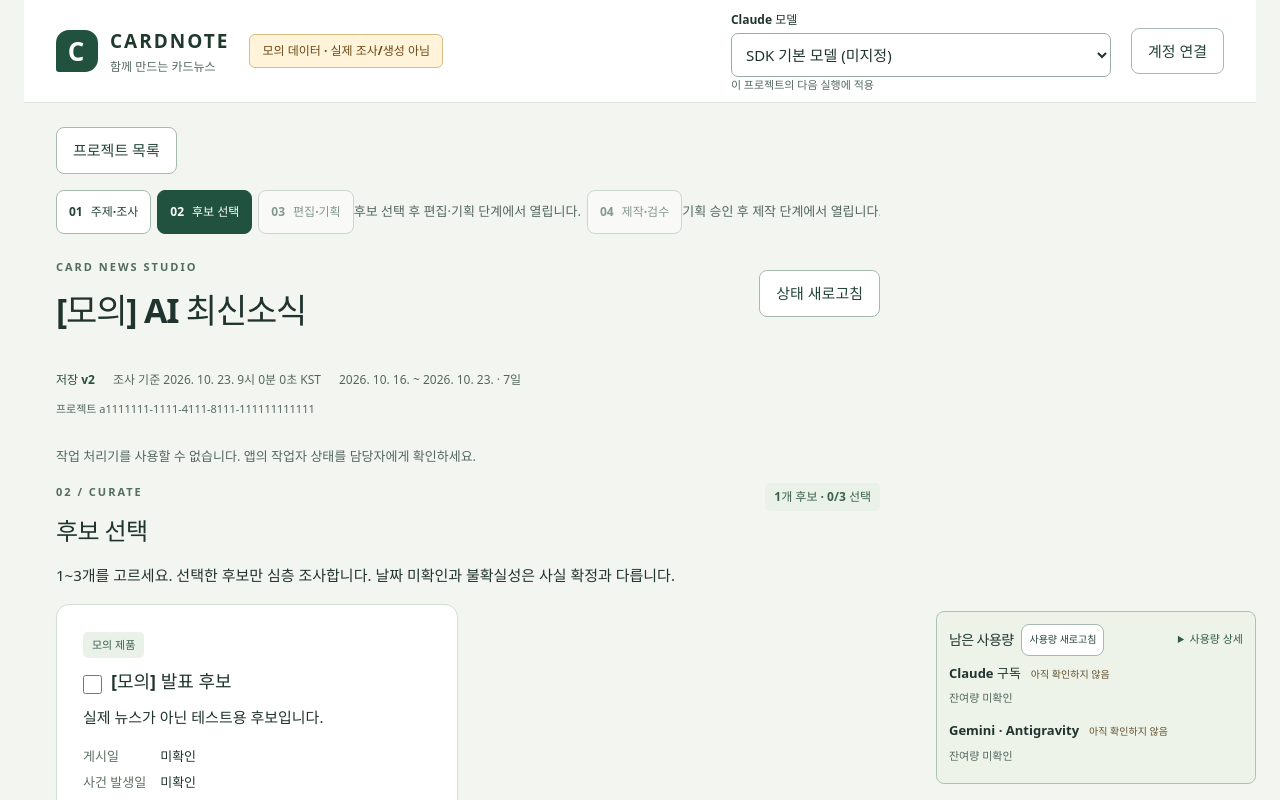
worker 불가는 원시 reason을 숨기고 조사 버튼 옆에 명시한다
Expected: the heading "[모의] AI 최신소식" is shown, [56, 288, 306, 334]
Click the button "01 주제·조사" at [104, 212], box [56, 190, 151, 234]
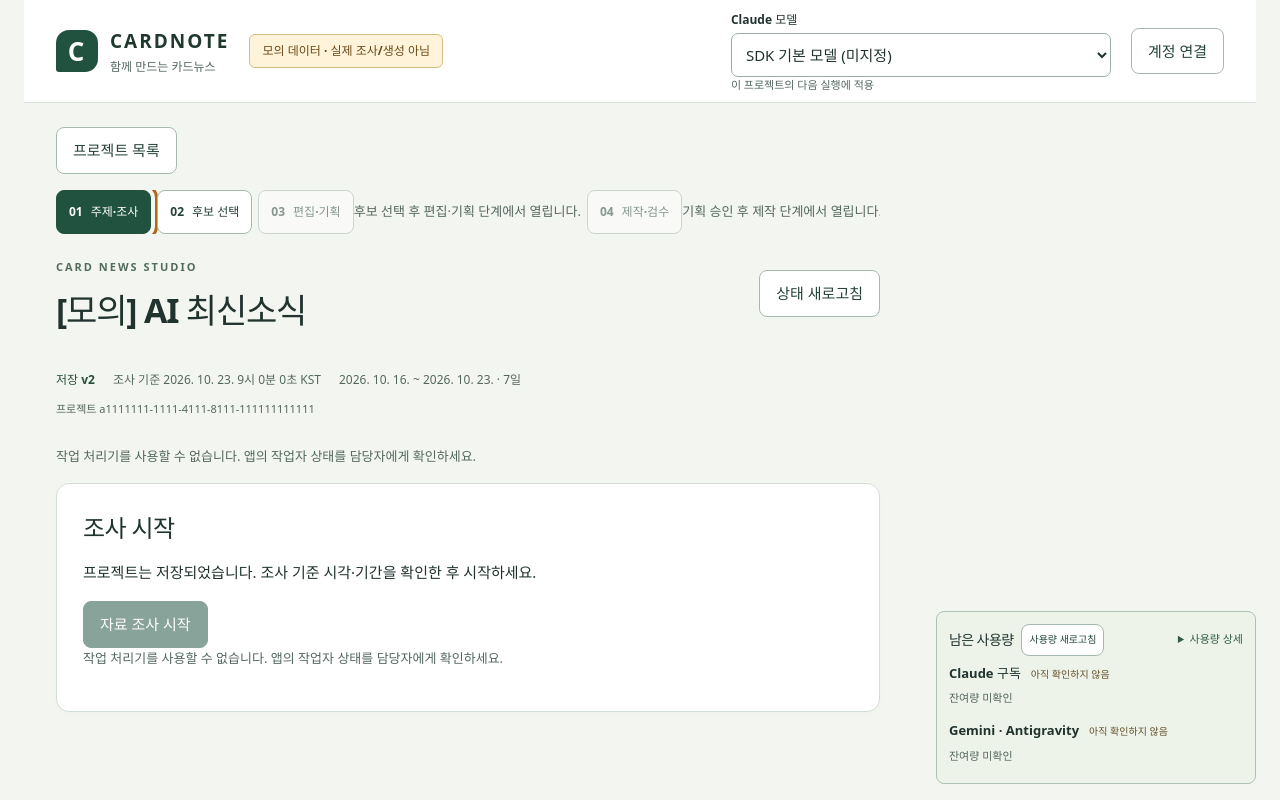
Expected: the button "자료 조사 시작" is disabled, [83, 601, 208, 648]
Expected: the element "자료 조사 시작" shows "작업 처리기를 사용할 수 없습니다", [83, 649, 503, 667]
